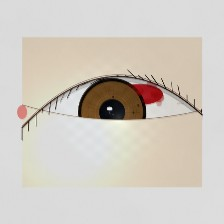hemorrhage_spot: (107, 68, 172, 120)
